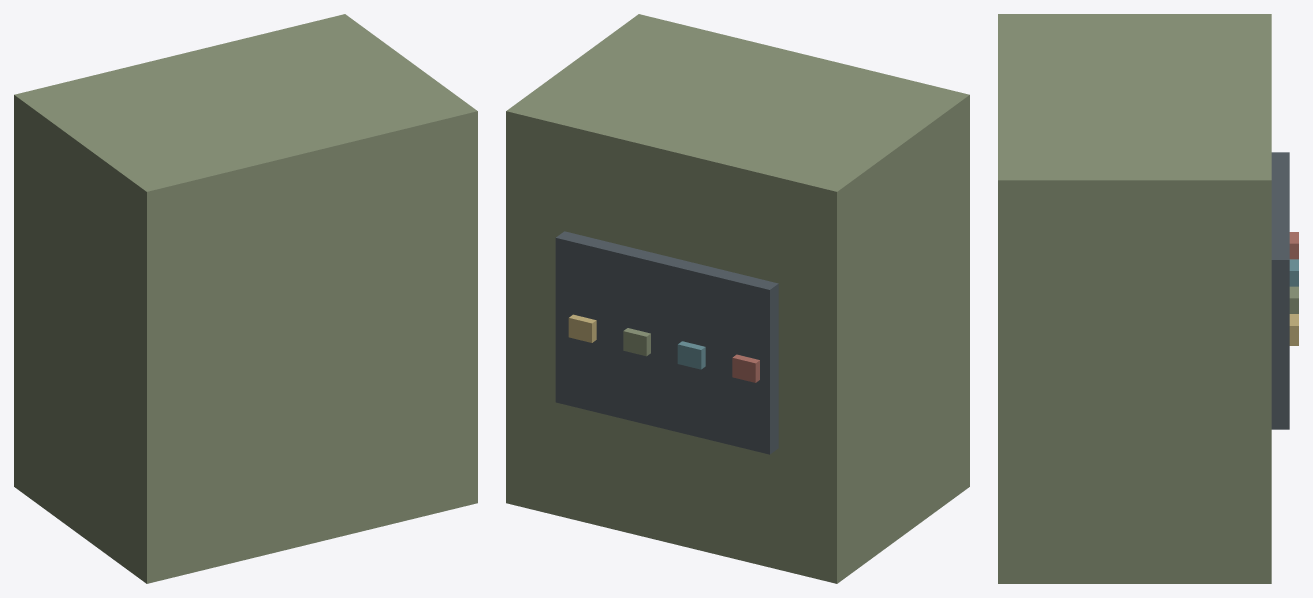
File: iz2_power_inverter.glb
The picture shows the model from 3 angles, left to right: view 1: azimuth 30°, elevation 25°; view 2: azimuth 150°, elevation 25°; view 3: azimuth 270°, elevation 25°; orthographic projection. The views are drawn at different scales.
Visible parts, largest first — view 1: body; view 2: body; view 3: body.
Boxes of the visible parts, box(x1,y1,x2,y2) form: body: box(14, 14, 477, 583); body: box(506, 14, 969, 583); body: box(998, 14, 1298, 583).
Bounding box in the file's own units: 0.8704 × 0.985 × 0.6649.
